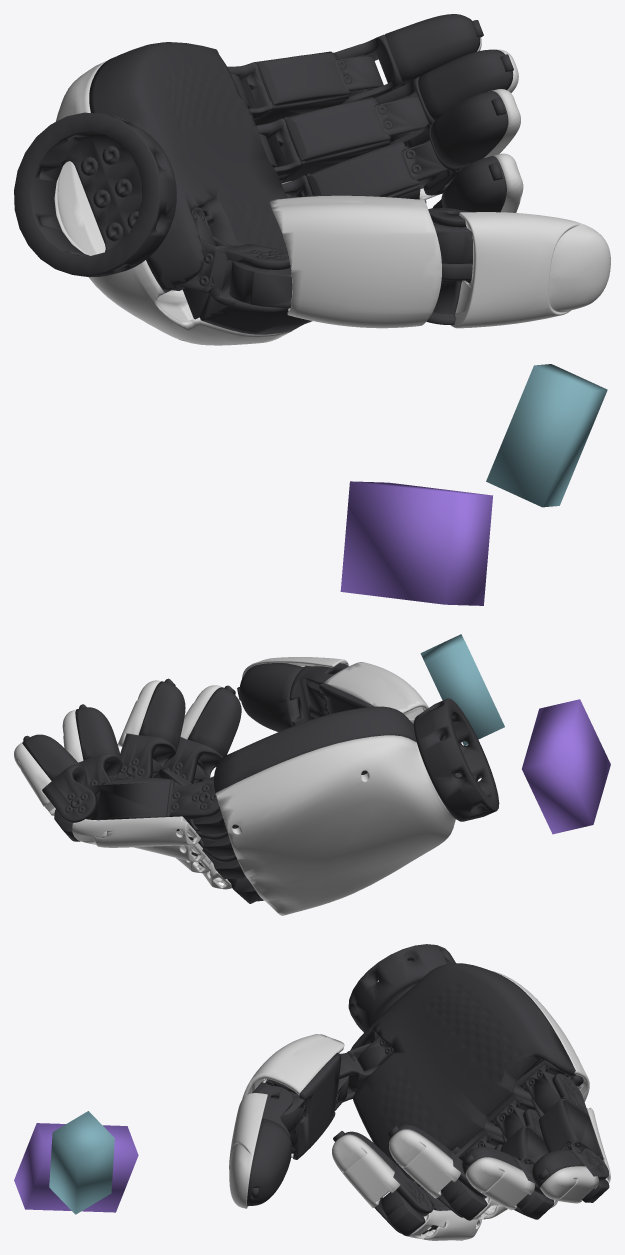
The model's file is prediction.glb.
The picture shows the model from 3 angles, top to bottom: view 1: azimuth 30°, elevation 25°; view 2: azimuth 150°, elevation 25°; view 3: azimuth 270°, elevation 25°; orthographic projection. The views are drawn at different scales.
Parts seen in each view (by area): view 1: HAND__008__right_hand_link.STL__material, HAND__028__right_hand_thumb_rotaback_link1.STL__material, OBJECT__00__recorded_box, HAND__029__right_hand_thumb_rotaback_link2.STL__material, OBJECT__01__recorded_box, HAND__000__right_hand_back_link.STL__material, HAND__019__right_hand_ring_link1.STL__material, HAND__014__right_hand_pinky_link1.STL__material, HAND__009__right_hand_mid_link1.STL__material, HAND__015__right_hand_pinky_link2.STL__material, HAND__010__right_hand_mid_link2.STL__material, HAND__020__right_hand_ring_link2.STL__material (+6 smaller); view 2: HAND__000__right_hand_back_link.STL__material, HAND__008__right_hand_link.STL__material, OBJECT__00__recorded_box, HAND__014__right_hand_pinky_link1.STL__material, HAND__026__right_hand_thumb_rota_link2.STL__material, OBJECT__01__recorded_box, HAND__010__right_hand_mid_link2.STL__material, HAND__004__right_hand_index_rota_link2.STL__material, HAND__015__right_hand_pinky_link2.STL__material, HAND__017__right_hand_pinkyback_link1.STL__material, HAND__028__right_hand_thumb_rotaback_link1.STL__material, HAND__020__right_hand_ring_link2.STL__material (+9 smaller); view 3: HAND__008__right_hand_link.STL__material, OBJECT__01__recorded_box, OBJECT__00__recorded_box, HAND__025__right_hand_thumb_rota_link1.STL__material, HAND__026__right_hand_thumb_rota_link2.STL__material, HAND__014__right_hand_pinky_link1.STL__material, HAND__028__right_hand_thumb_rotaback_link1.STL__material, HAND__007__right_hand_index_rotaback_link2.STL__material, HAND__013__right_hand_midback_link2.STL__material, HAND__029__right_hand_thumb_rotaback_link2.STL__material, HAND__023__right_hand_ringback_link2.STL__material, HAND__019__right_hand_ring_link1.STL__material (+10 smaller).
Boxes of the visible parts, x1,y1,x2,y2 form: HAND__008__right_hand_link.STL__material: [14, 42, 309, 334]; HAND__028__right_hand_thumb_rotaback_link1.STL__material: [269, 195, 441, 328]; OBJECT__00__recorded_box: [340, 481, 492, 605]; HAND__029__right_hand_thumb_rotaback_link2.STL__material: [450, 212, 610, 328]; OBJECT__01__recorded_box: [486, 364, 607, 507]; HAND__000__right_hand_back_link.STL__material: [54, 60, 291, 345]; HAND__019__right_hand_ring_link1.STL__material: [256, 96, 428, 183]; HAND__014__right_hand_pinky_link1.STL__material: [227, 51, 383, 125]; HAND__009__right_hand_mid_link1.STL__material: [281, 141, 447, 199]; HAND__015__right_hand_pinky_link2.STL__material: [334, 14, 480, 103]; HAND__010__right_hand_mid_link2.STL__material: [407, 91, 508, 195]; HAND__020__right_hand_ring_link2.STL__material: [375, 49, 513, 149]; HAND__000__right_hand_back_link.STL__material: [215, 735, 455, 915]; HAND__008__right_hand_link.STL__material: [192, 698, 499, 879]; OBJECT__00__recorded_box: [522, 699, 610, 834]; HAND__014__right_hand_pinky_link1.STL__material: [54, 778, 220, 841]; HAND__026__right_hand_thumb_rota_link2.STL__material: [239, 663, 348, 731]; OBJECT__01__recorded_box: [420, 634, 504, 745]; HAND__010__right_hand_mid_link2.STL__material: [117, 681, 185, 778]; HAND__004__right_hand_index_rota_link2.STL__material: [164, 687, 241, 783]; HAND__015__right_hand_pinky_link2.STL__material: [22, 734, 97, 823]; HAND__017__right_hand_pinkyback_link1.STL__material: [72, 816, 200, 847]; HAND__028__right_hand_thumb_rotaback_link1.STL__material: [324, 662, 428, 723]; HAND__020__right_hand_ring_link2.STL__material: [75, 707, 122, 785]; HAND__008__right_hand_link.STL__material: [348, 944, 583, 1181]; OBJECT__01__recorded_box: [49, 1111, 114, 1214]; OBJECT__00__recorded_box: [14, 1123, 138, 1212]; HAND__025__right_hand_thumb_rota_link1.STL__material: [252, 1053, 348, 1159]; HAND__026__right_hand_thumb_rota_link2.STL__material: [247, 1086, 293, 1206]; HAND__014__right_hand_pinky_link1.STL__material: [531, 1073, 609, 1202]; HAND__028__right_hand_thumb_rotaback_link1.STL__material: [242, 1034, 344, 1157]; HAND__007__right_hand_index_rotaback_link2.STL__material: [332, 1134, 400, 1207]; HAND__013__right_hand_midback_link2.STL__material: [389, 1129, 460, 1198]; HAND__029__right_hand_thumb_rotaback_link2.STL__material: [229, 1093, 267, 1208]; HAND__023__right_hand_ringback_link2.STL__material: [465, 1157, 534, 1210]; HAND__019__right_hand_ring_link1.STL__material: [500, 1109, 553, 1219].
Size of the model in its own units: 0.1912 by 0.1167 by 0.2556.
